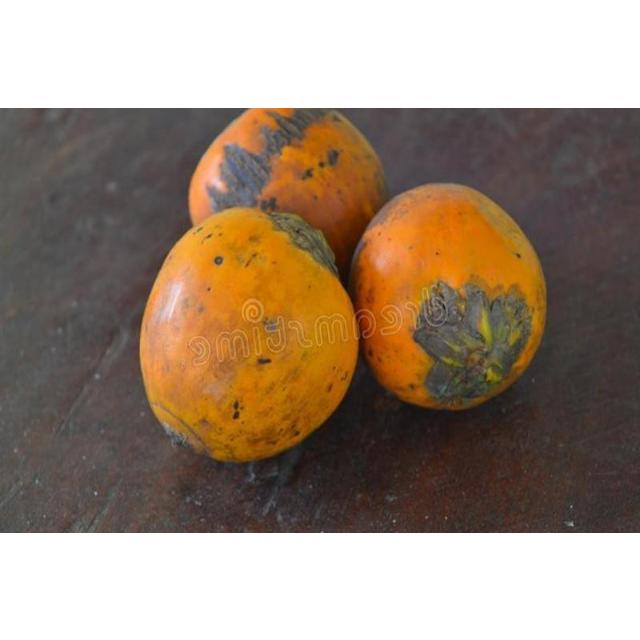good: (138, 206, 359, 465), (345, 182, 549, 413), (189, 107, 390, 281)
